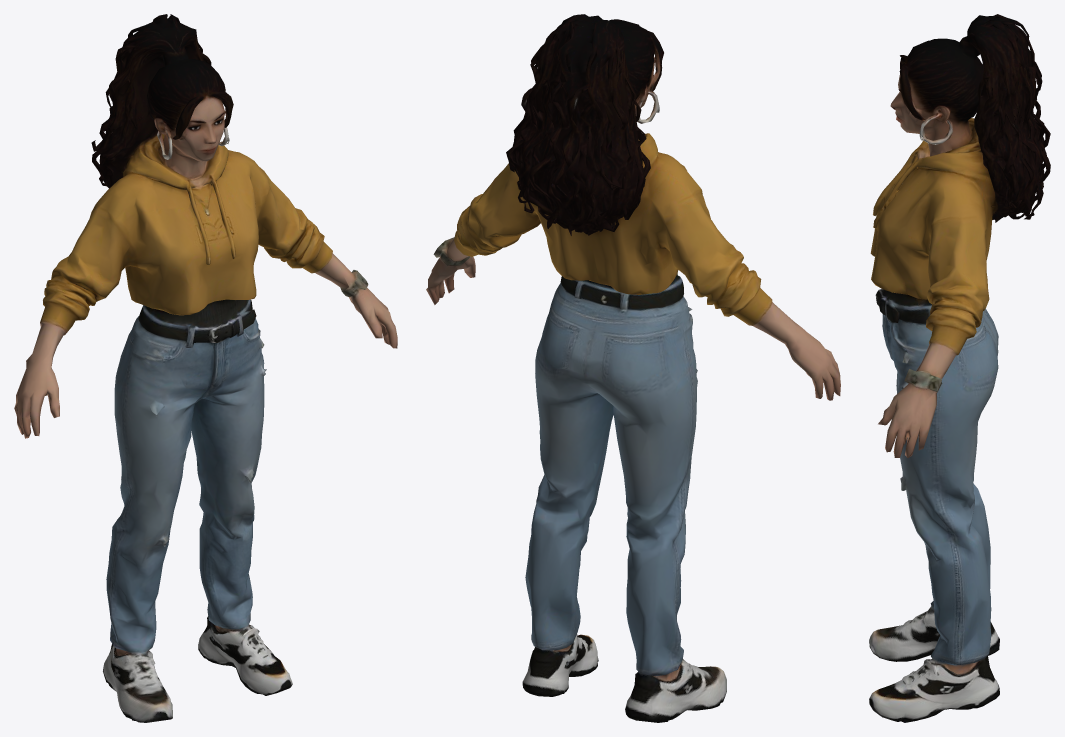
File: girl_z.glb
The picture shows the model from 3 angles, left to right: view 1: azimuth 30°, elevation 25°; view 2: azimuth 150°, elevation 25°; view 3: azimuth 270°, elevation 25°; orthographic projection. The views are drawn at different scales.
Parts seen in each view (by area): view 1: tripo_node_98c844d4-0228-41ea-b81c-9302cb0ef61c; view 2: tripo_node_98c844d4-0228-41ea-b81c-9302cb0ef61c; view 3: tripo_node_98c844d4-0228-41ea-b81c-9302cb0ef61c.
Part boxes in pixels (left/top/right/bottom): tripo_node_98c844d4-0228-41ea-b81c-9302cb0ef61c: left=14, top=14, right=397, bottom=722; tripo_node_98c844d4-0228-41ea-b81c-9302cb0ef61c: left=426, top=14, right=840, bottom=722; tripo_node_98c844d4-0228-41ea-b81c-9302cb0ef61c: left=869, top=14, right=1050, bottom=722.
Bounding box in the file's own units: 0.6021 × 1 × 0.2468.
Materials: 1 (1 with a texture image).
